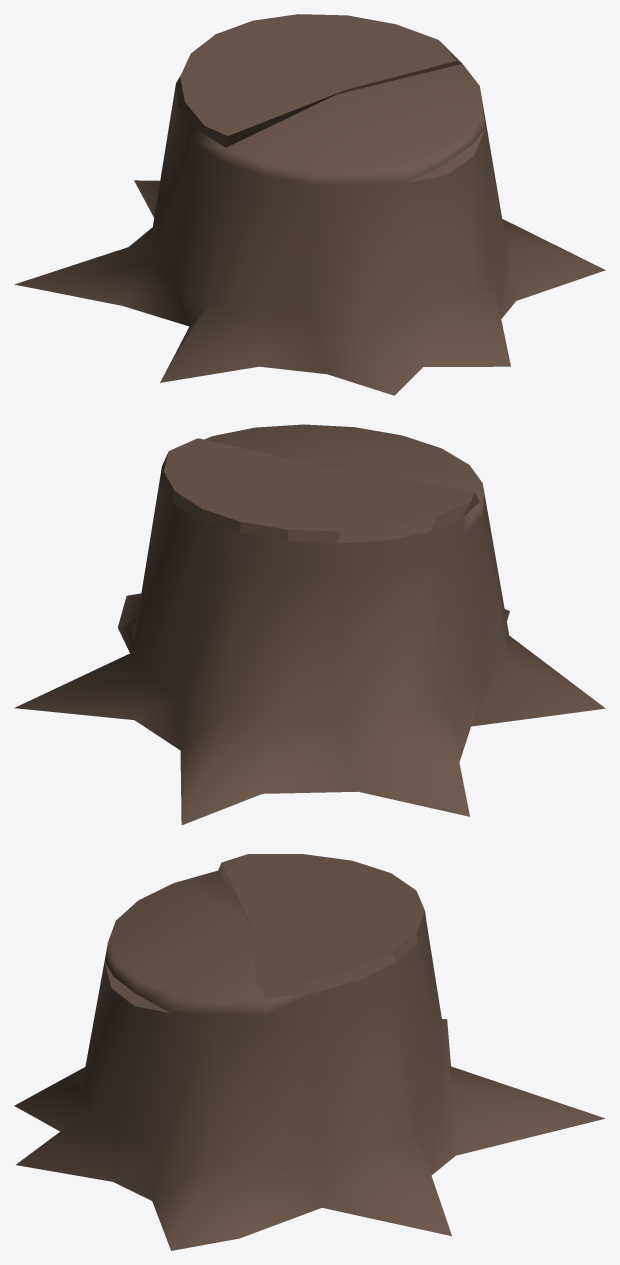
File: ep_stumpsmall.fbx
The picture shows the model from 3 angles, top to bottom: view 1: azimuth 30°, elevation 25°; view 2: azimuth 150°, elevation 25°; view 3: azimuth 270°, elevation 25°; orthographic projection. The views are drawn at different scales.
Parts seen in each view (by area): view 1: Stump_Small; view 2: Stump_Small; view 3: Stump_Small.
Part boxes in pixels (box(x1,y1,x2,y2)): Stump_Small: box(14, 14, 605, 395); Stump_Small: box(14, 424, 605, 824); Stump_Small: box(14, 854, 605, 1250).
Bounding box in the file's own units: 246 × 111 × 266.
